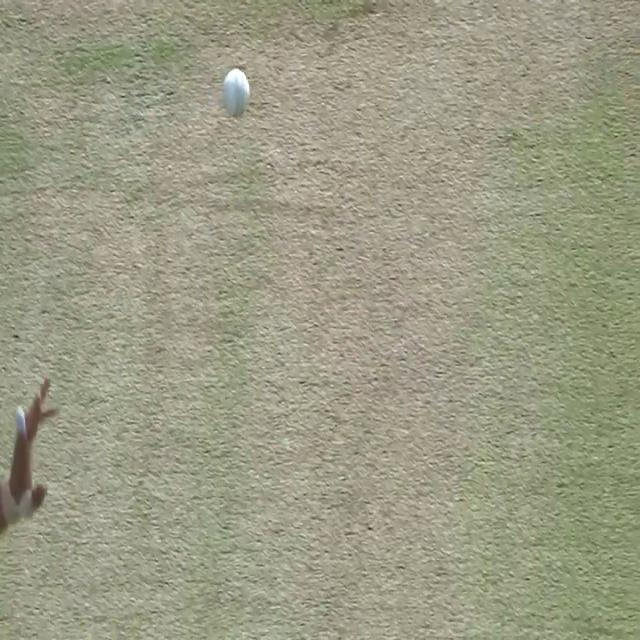ball: (220, 67, 252, 119)
